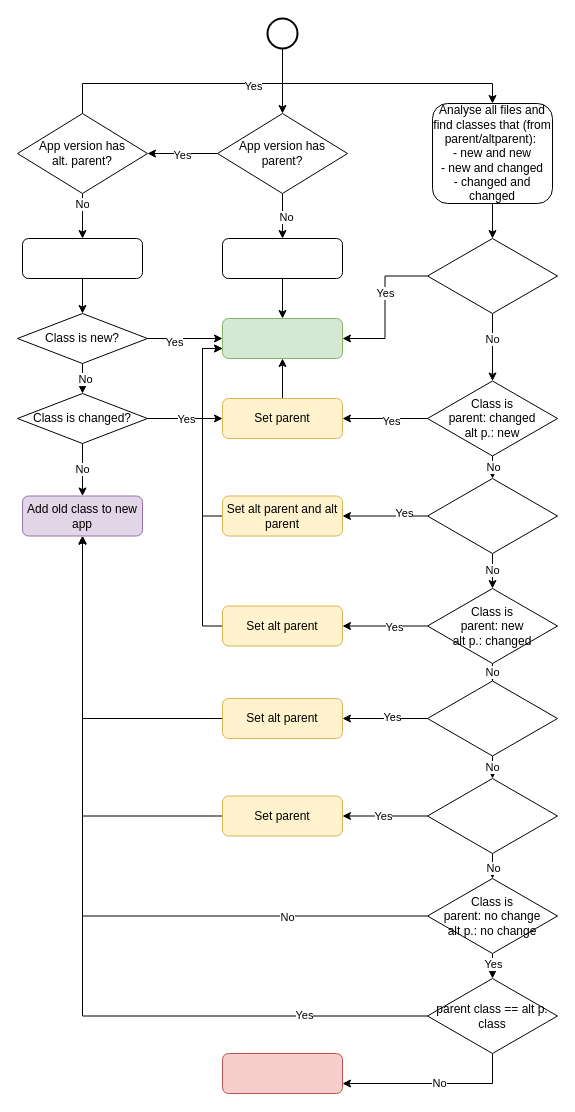
The diagram is 575 pixels wide and 1112 high, and some of its shapes have lost their labels. The centre of each missing label's shape, as x and y in pixels:
"Add class to new app" belongs at point 282,338.
"Add merge relationship and new create class" belongs at point 282,1073.
"Analyse all changed and new files and find classes" belongs at point 82,258.
"Analyse all project files and find classes" belongs at point 282,258.
"Class is parent: changed alt p.: changed" belongs at point 492,516.
"Class is parent: changed alt p.: no change" belongs at point 492,816.
"Class is parent: new alt p: new" belongs at point 492,276.
"Class is parent: no change alt p.: changed" belongs at point 492,718.
